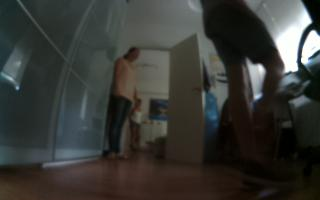person: (198, 1, 303, 200), (102, 43, 142, 161), (126, 92, 144, 159)
